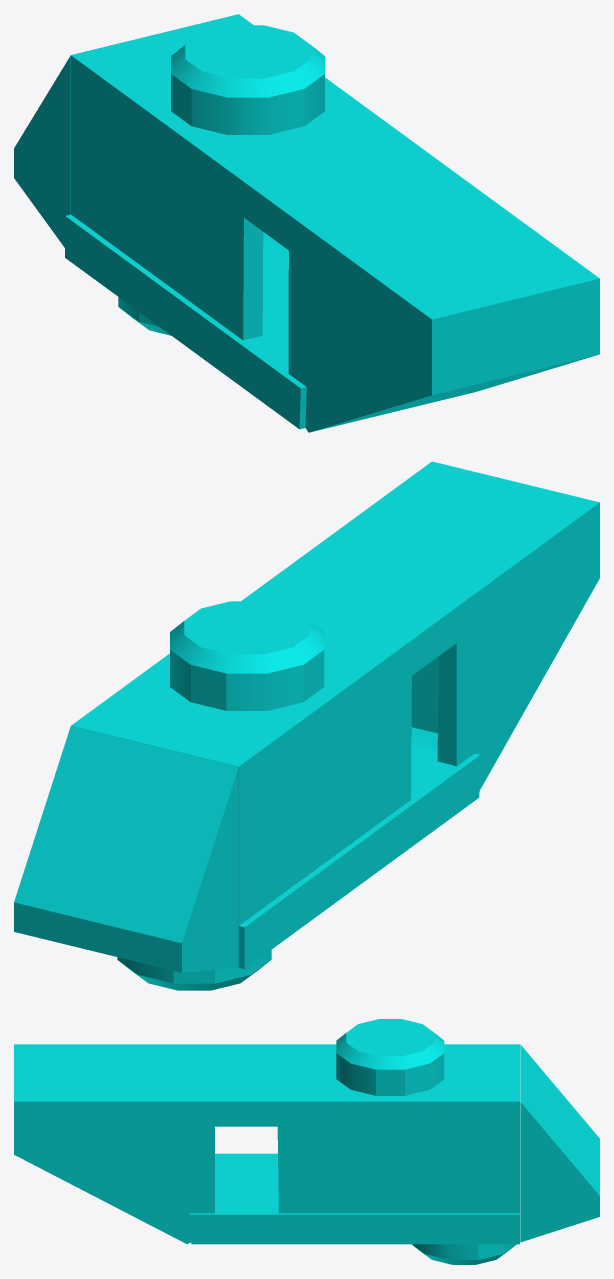
Rendered from SM_Veh_Train_Cockpit_01_Collision.fbx.
The picture shows the model from 3 angles, top to bottom: view 1: azimuth 30°, elevation 25°; view 2: azimuth 150°, elevation 25°; view 3: azimuth 270°, elevation 25°; orthographic projection. The views are drawn at different scales.
Visible parts, largest first — view 1: SM_Veh_Train_Cockpit_01_Collision; view 2: SM_Veh_Train_Cockpit_01_Collision; view 3: SM_Veh_Train_Cockpit_01_Collision.
Part boxes in pixels (left/top/right/bottom): SM_Veh_Train_Cockpit_01_Collision: left=14, top=14, right=599, bottom=432; SM_Veh_Train_Cockpit_01_Collision: left=14, top=461, right=599, bottom=990; SM_Veh_Train_Cockpit_01_Collision: left=14, top=1019, right=599, bottom=1264.
Bounding box in the file's own units: 295 × 470 × 1198.
